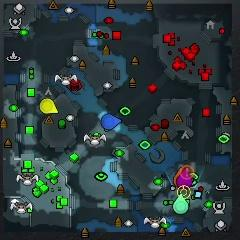p1: (101, 114, 122, 129)
p2: (173, 194, 188, 213)
p3: (176, 168, 194, 188)
p4: (40, 98, 57, 114)
p5: (173, 167, 184, 186)
